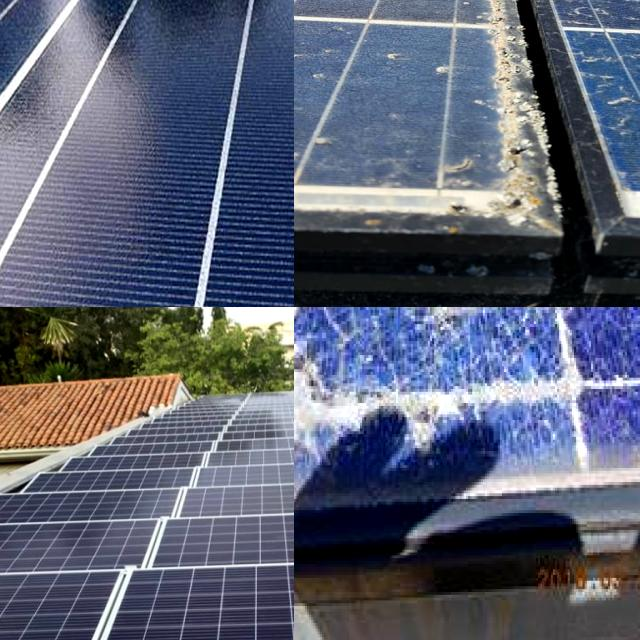crack: (0, 0, 294, 307), (57, 558, 294, 640), (0, 476, 225, 533), (122, 500, 294, 569), (178, 464, 294, 490)
dust: (294, 16, 493, 184), (575, 17, 640, 186), (294, 0, 470, 48), (294, 0, 485, 20), (294, 0, 334, 46)
hotspot: (294, 340, 595, 499), (294, 307, 582, 381)
